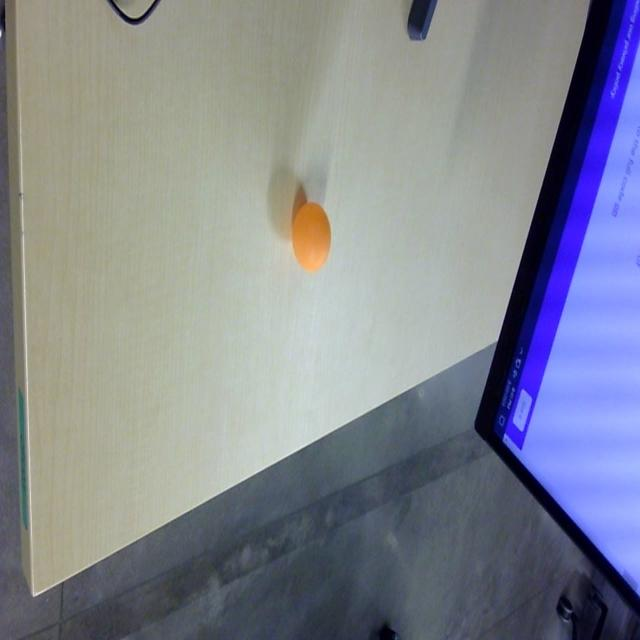ball: (291, 200, 332, 272)
